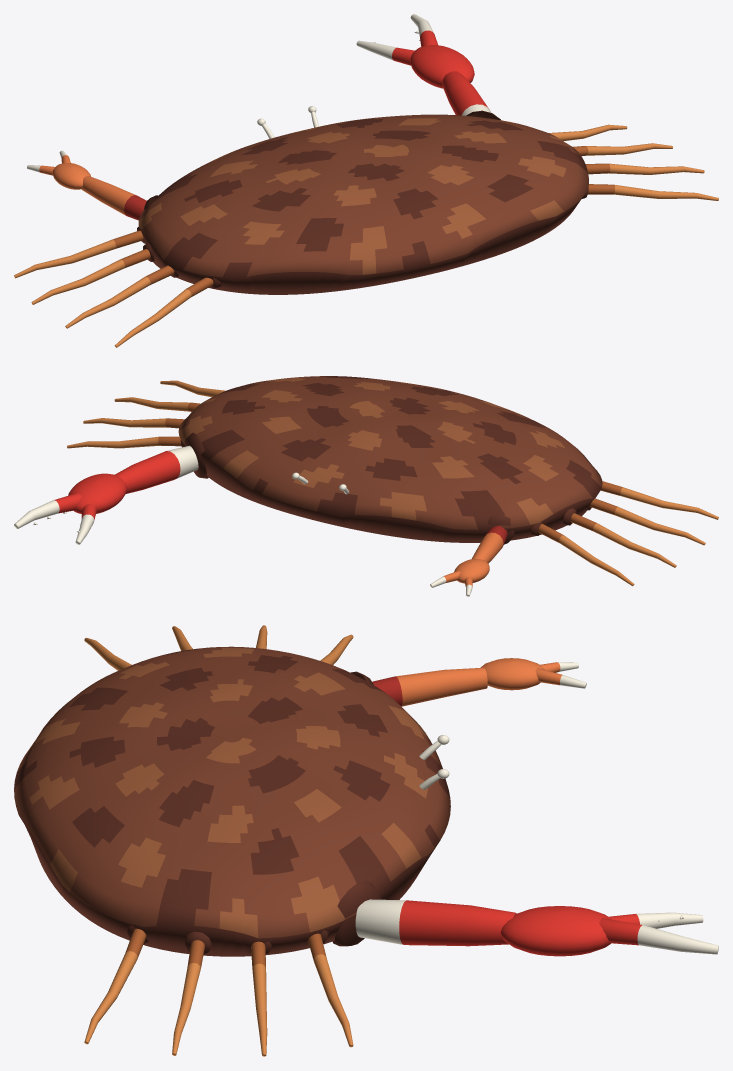
3 views of the same model, one above another, from view 1: azimuth 30°, elevation 25°; view 2: azimuth 150°, elevation 25°; view 3: azimuth 270°, elevation 25° (orthographic). The views are drawn at different scales.
Parts seen in each view (by area): view 1: carapace, walking_leg, dominant_cheliped, smaller_cheliped; view 2: carapace, walking_leg, dominant_cheliped, smaller_cheliped; view 3: carapace, dominant_cheliped, walking_leg, smaller_cheliped.
Part boxes in pixels (<box>): carapace: <box>137,110,588,294</box>; walking_leg: <box>14,124,718,347</box>; dominant_cheliped: <box>356,14,491,115</box>; smaller_cheliped: <box>27,150,146,220</box>; carapace: <box>178,376,602,544</box>; walking_leg: <box>67,380,718,586</box>; dominant_cheliped: <box>14,445,198,544</box>; smaller_cheliped: <box>430,526,507,596</box>; carapace: <box>14,646,450,956</box>; dominant_cheliped: <box>355,899,718,956</box>; walking_leg: <box>84,625,353,1056</box>; smaller_cheliped: <box>372,658,586,706</box>.
Bounding box in the file's own units: 7.67 × 0.9057 × 5.34.
